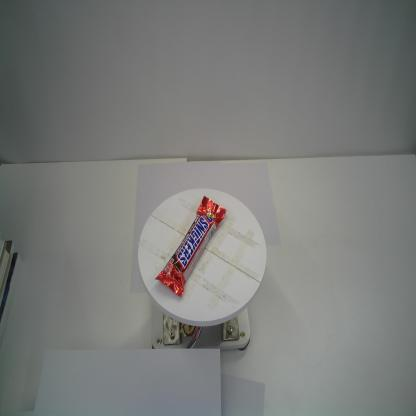Chocolate: (153, 193, 227, 300)
